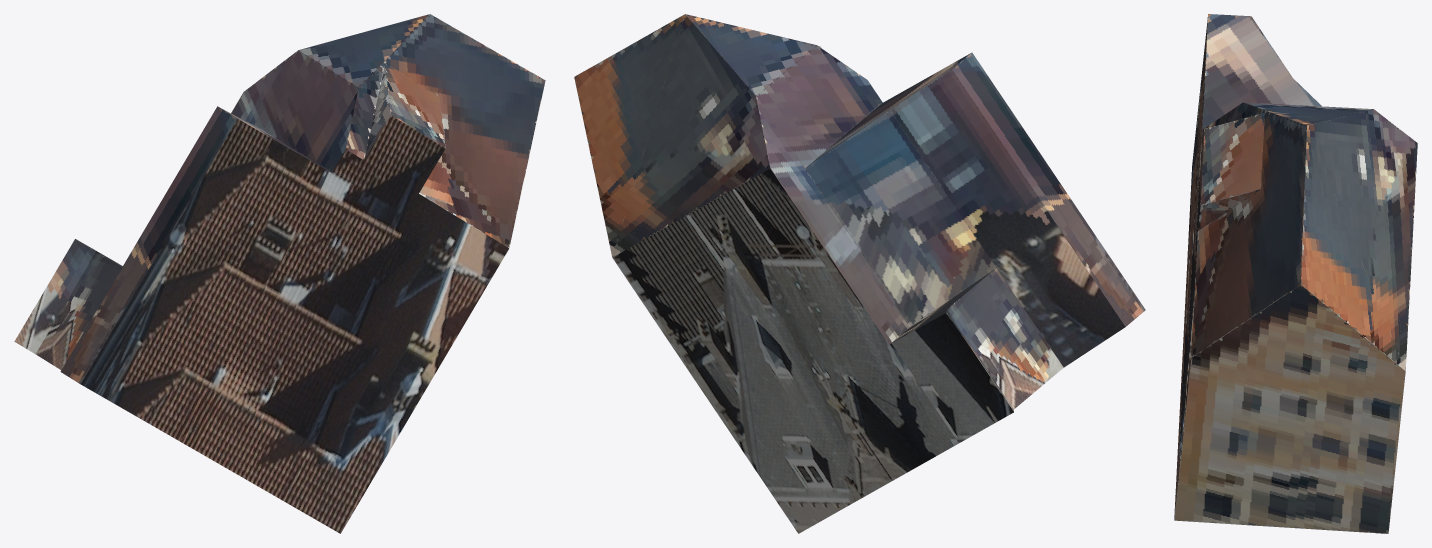
3 views of the same model, side by side, from view 1: azimuth 30°, elevation 25°; view 2: azimuth 150°, elevation 25°; view 3: azimuth 270°, elevation 25° (orthographic). The views are drawn at different scales.
Parts seen in each view (by area): view 1: BAG_0599100000760363 (×4); view 2: BAG_0599100000760363 (×5); view 3: BAG_0599100000760363 (×3).
Part boxes in pixels (<box>): BAG_0599100000760363 (×4): <box>14,14,545,533</box>; BAG_0599100000760363 (×5): <box>574,14,1145,533</box>; BAG_0599100000760363 (×3): <box>1174,14,1417,533</box>.
Bounding box in the file's own units: 23.53 × 19.64 × 8.89.
Materials: 1 (1 with a texture image).
